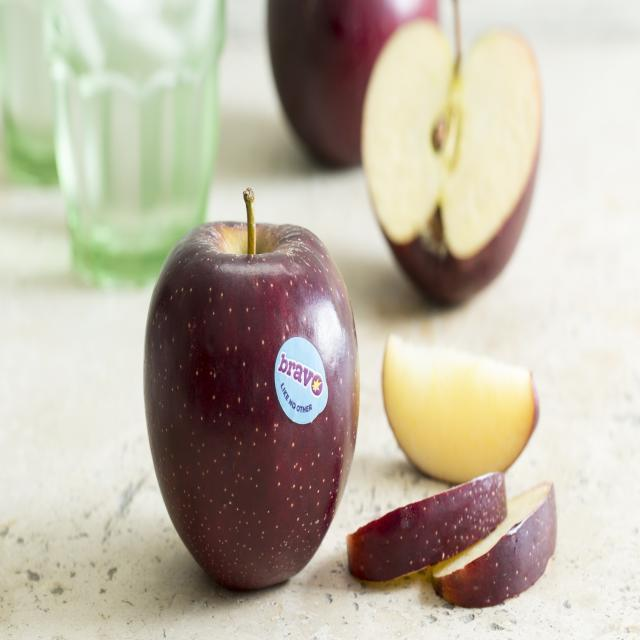Apple: (138, 188, 362, 596)
